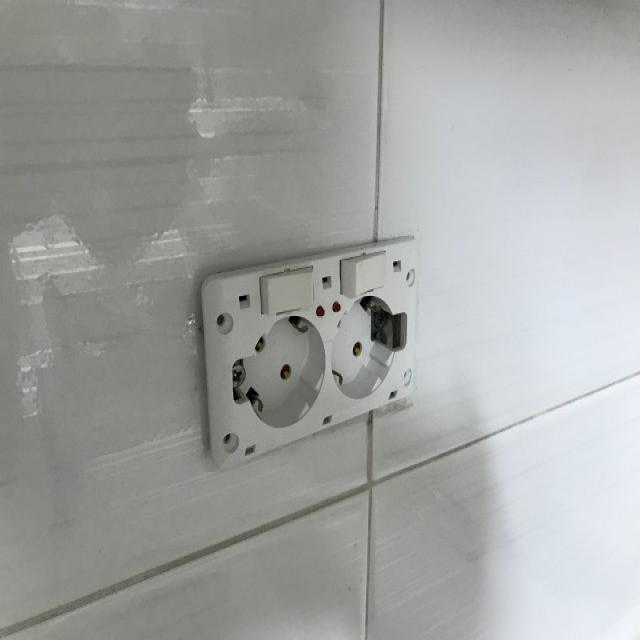typeb: (192, 188, 470, 474)
